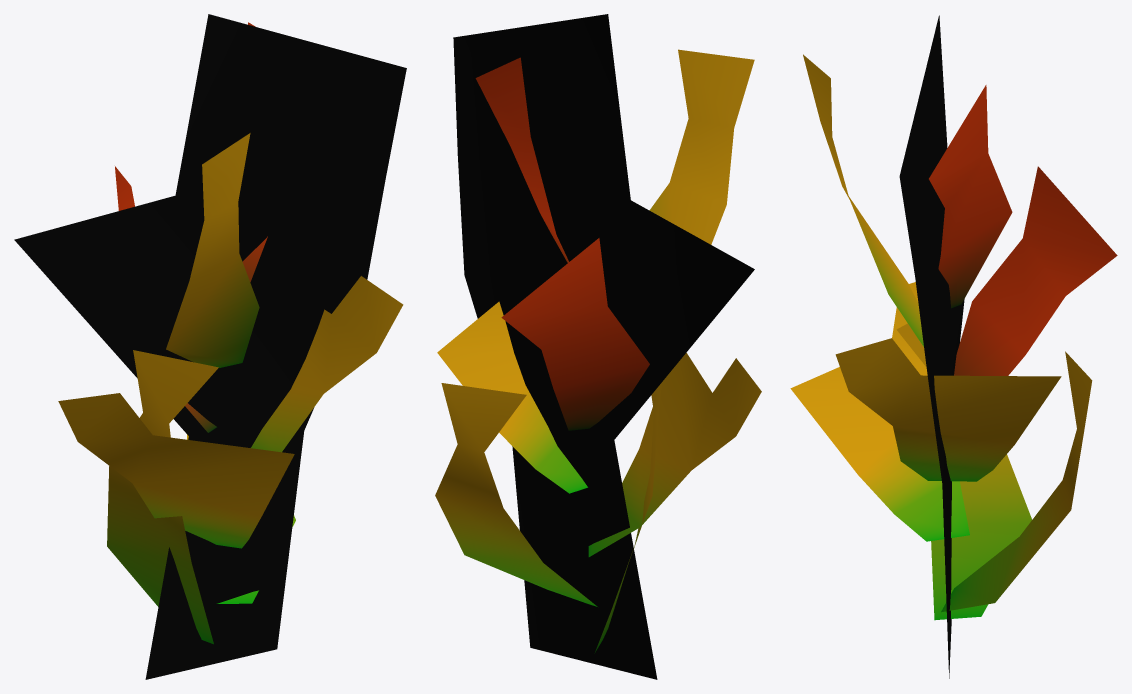
The model's file is Var4Hi43.fbx.
The picture shows the model from 3 angles, left to right: view 1: azimuth 30°, elevation 25°; view 2: azimuth 150°, elevation 25°; view 3: azimuth 270°, elevation 25°; orthographic projection. The views are drawn at different scales.
Visible parts, largest first — view 1: bend1; view 2: bend1; view 3: bend1.
Boxes of the visible parts, bbox=[...] form: bend1: bbox=[14, 14, 406, 679]; bend1: bbox=[435, 14, 761, 679]; bend1: bbox=[790, 15, 1117, 678].
Size of the model in its own units: 1.3 by 2.33 by 1.09.
